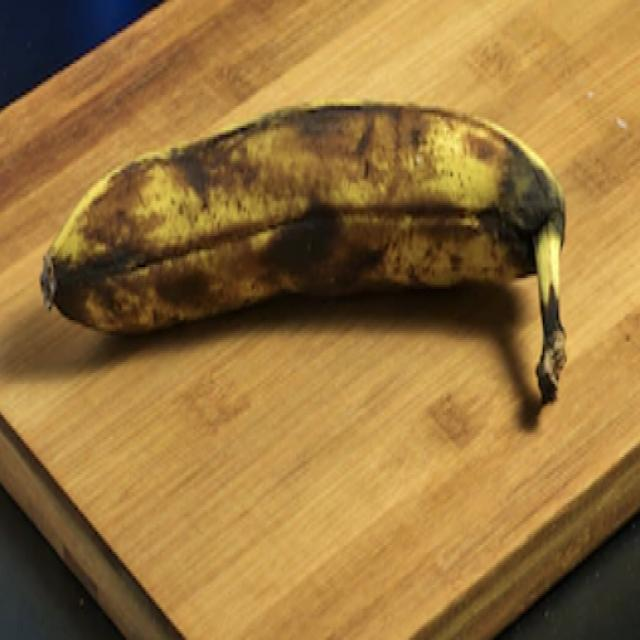rotten-banana: (45, 79, 564, 410)
